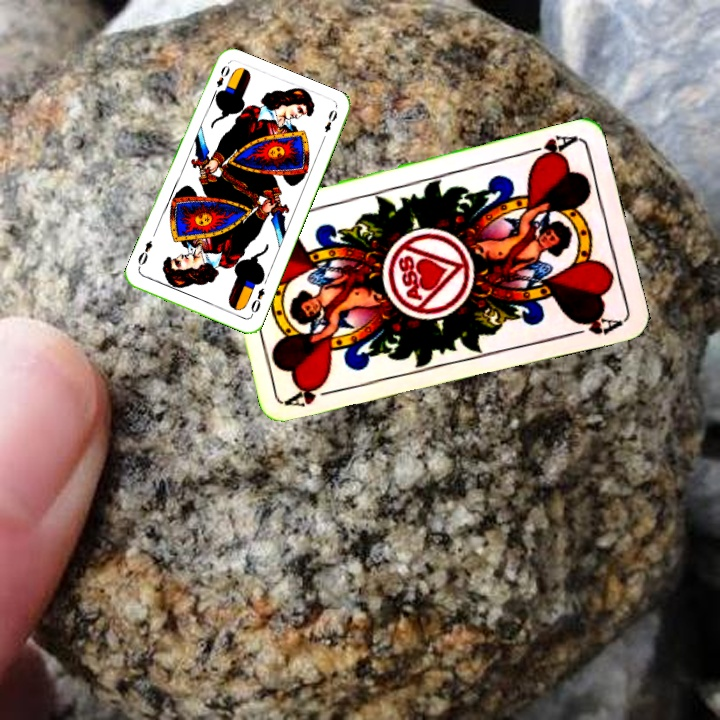EO: (247, 283, 267, 319), (212, 61, 232, 90)
HA: (521, 131, 579, 165), (284, 381, 342, 410)
